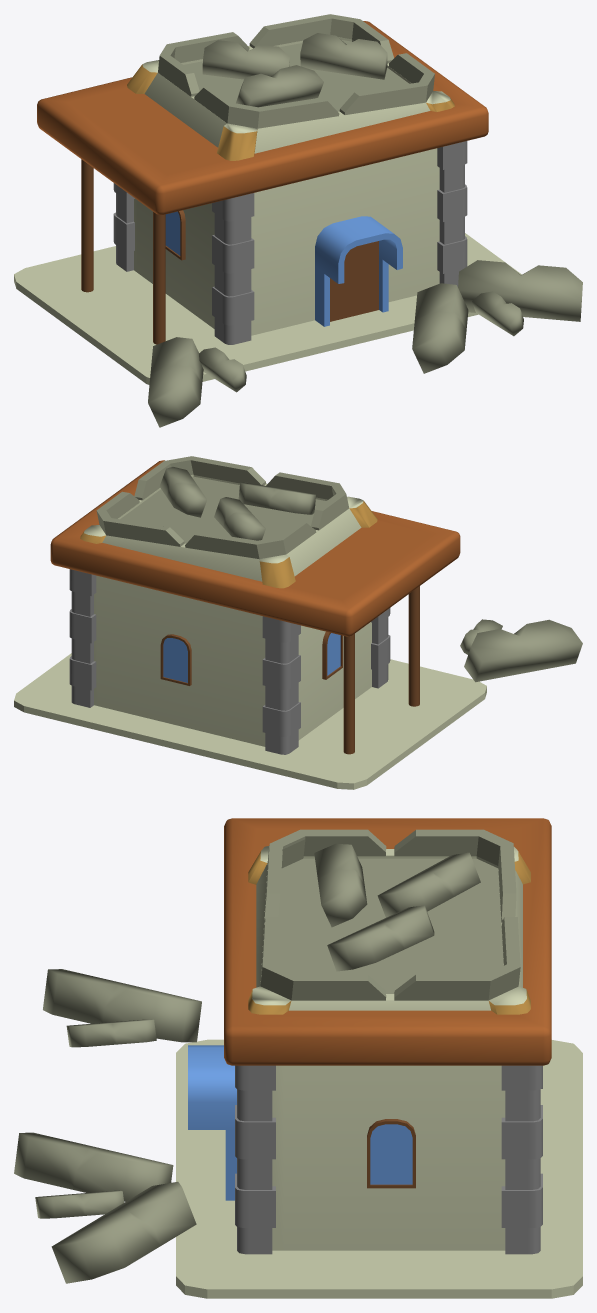
3 views of the same model, one above another, from view 1: azimuth 30°, elevation 25°; view 2: azimuth 150°, elevation 25°; view 3: azimuth 270°, elevation 25° (orthographic). The views are drawn at different scales.
Visible parts, largest first — view 1: Cube.169; view 2: Cube.169; view 3: Cube.169.
Part boxes in pixels (box(x1,y1,x2,y2)): Cube.169: box(14, 14, 582, 427); Cube.169: box(14, 456, 582, 789); Cube.169: box(14, 818, 582, 1298).
Bounding box in the file's own units: 931 × 458 × 779.
